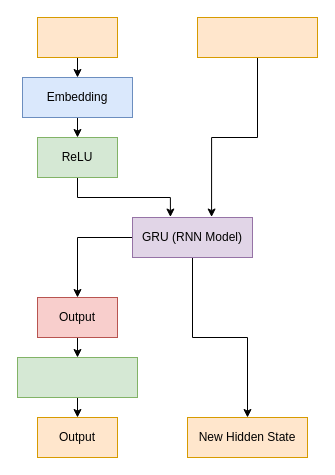
Some shapes in this 335 by 475 pixel diagram are drawn without their labels. The shapes that lost their labels are listed below. From the top down, each one's box as (x1, y1, x2, y2) in pixels, then its label:
(36, 16, 118, 58): Input
(196, 16, 318, 58): Prev. Hidden State
(16, 356, 138, 398): LogSoftmax
